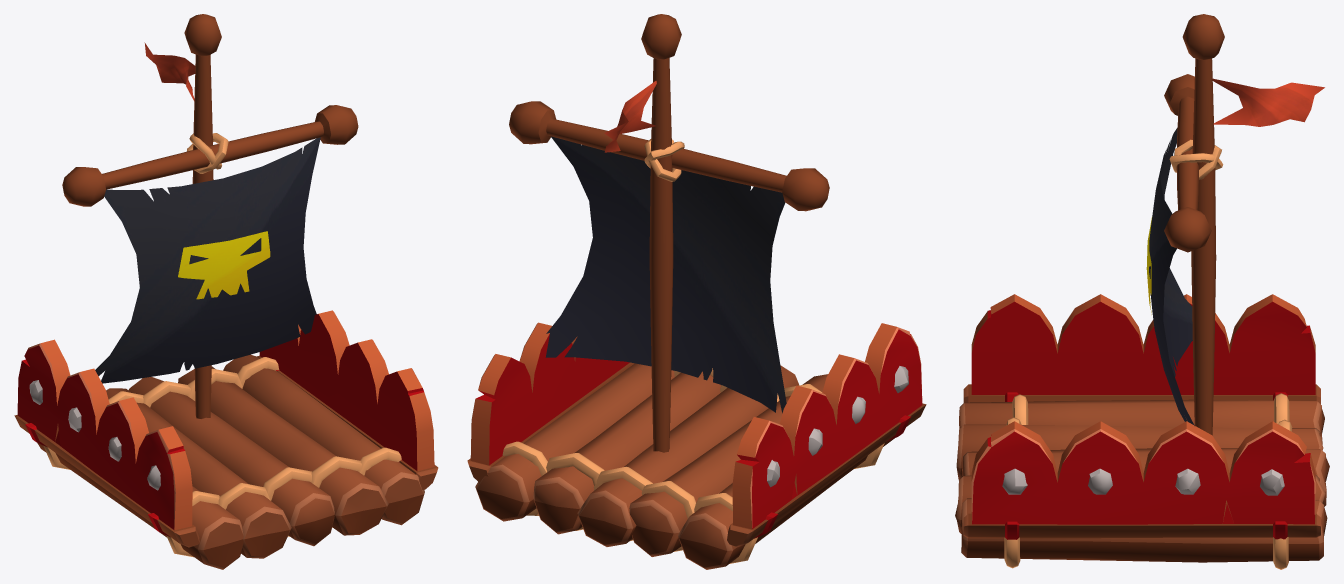
The model's file is RaftA.fbx.
3 views of the same model, side by side, from view 1: azimuth 30°, elevation 25°; view 2: azimuth 150°, elevation 25°; view 3: azimuth 270°, elevation 25° (orthographic). The views are drawn at different scales.
Parts seen in each view (by area): view 1: Color_01, Color_Cloth_01, Armor_Color_11, Armor_Color_10, Armor_Color_09; view 2: Color_01, Color_Cloth_01, Armor_Color_11, Armor_Color_10, Armor_Color_09; view 3: Color_01, Armor_Color_10, Armor_Color_11, Color_Cloth_01, Armor_Color_09.
Part boxes in pixels (box(x1,y1,x2,y2)): Color_01: box(37, 14, 424, 569); Color_Cloth_01: box(95, 42, 320, 383); Armor_Color_11: box(17, 339, 192, 530); Armor_Color_10: box(259, 310, 434, 471); Armor_Color_09: box(14, 355, 438, 547); Color_01: box(475, 14, 894, 569); Color_Cloth_01: box(545, 81, 786, 413); Armor_Color_11: box(732, 323, 922, 529); Armor_Color_10: box(470, 322, 629, 465); Armor_Color_09: box(467, 362, 926, 547); Color_01: box(955, 14, 1329, 569); Armor_Color_10: box(971, 421, 1315, 524); Armor_Color_11: box(971, 294, 1315, 394); Color_Cloth_01: box(1146, 78, 1324, 425); Armor_Color_09: box(963, 384, 1320, 539).
Bounding box in the file's own units: 16.13 × 24.3 × 16.32.
